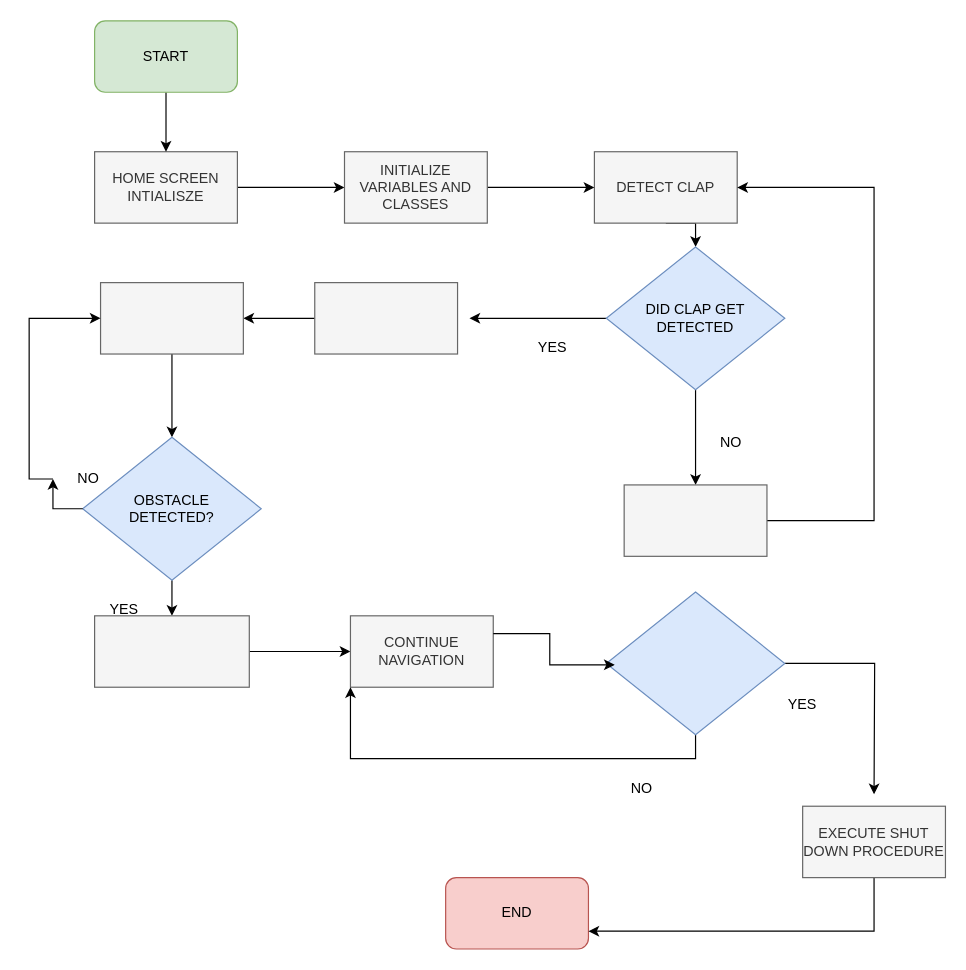
Image size: 966x970. Some labels were removed from this diagram. Each missing label, with the centre of its shape:
CHECK FOR SHUTDOWN COMMAND: (695,663)
EXECUTE FOLLOW LINE BEHAVIOUR: (386,317)
EXECUTE OBSTACLE AVOIDANCE BEHAVIOUR: (171,651)
FOLLOW LINE: (171,317)
KEEP WAITING: (695,520)
